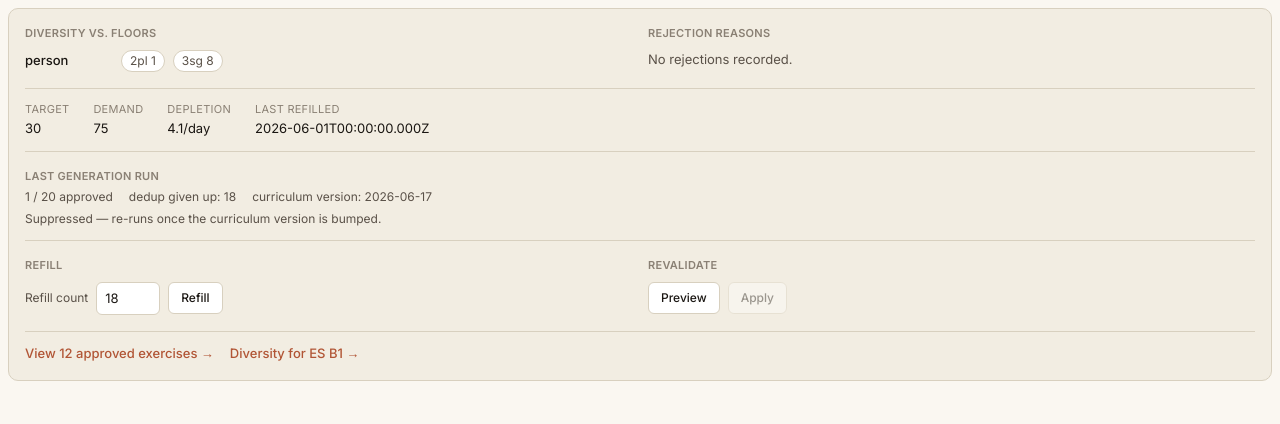
Test: PoolCellDetail — refill › queues a job and shows the queued message on success
The image size is (1280, 424).
Click the button "Refill".
click(195, 298)  # box x1=168 y1=282 x2=223 y2=314
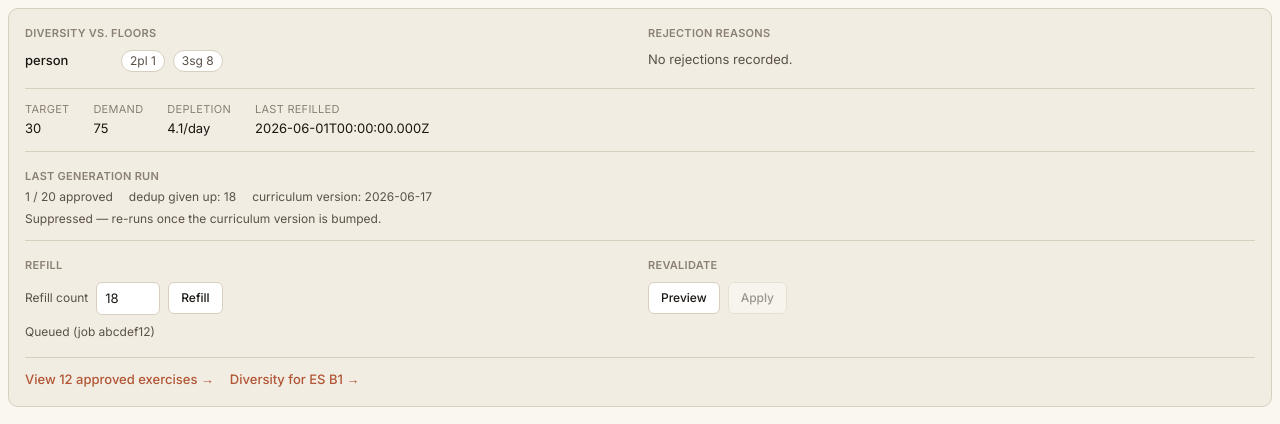
Expected: the text "Queued (job abcdef12)" is shown, x1=25 y1=324 x2=155 y2=339
